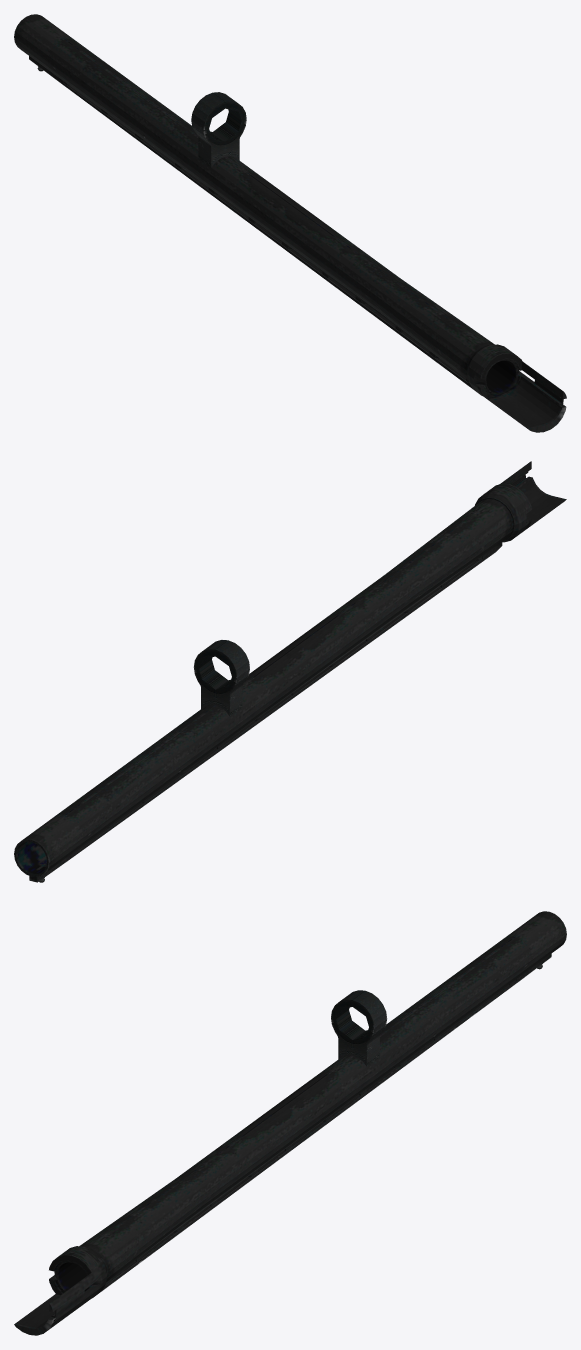
The picture shows the model from 3 angles, top to bottom: view 1: azimuth 30°, elevation 25°; view 2: azimuth 150°, elevation 25°; view 3: azimuth 330°, elevation 25°; orthographic projection.
Visible parts, largest first — view 1: TW_560835c74bdc2dc8488b456f_PZ_Import; view 2: TW_560835c74bdc2dc8488b456f_PZ_Import; view 3: TW_560835c74bdc2dc8488b456f_PZ_Import.
Boxes of the visible parts, x1,y1,x2,y2 form: TW_560835c74bdc2dc8488b456f_PZ_Import: (14, 14, 566, 432); TW_560835c74bdc2dc8488b456f_PZ_Import: (14, 461, 566, 882); TW_560835c74bdc2dc8488b456f_PZ_Import: (14, 911, 566, 1335).
Size of the model in its own units: 0.0167 by 0.3206 by 0.0359.
1 material, 1 textured.
